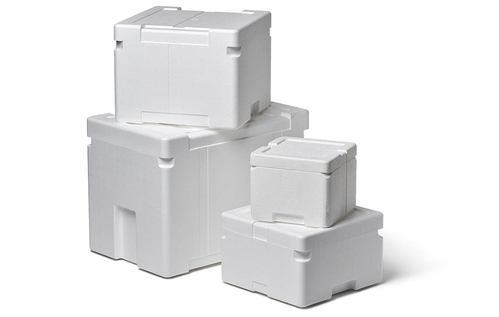Foam Box: (80, 2, 390, 310)
